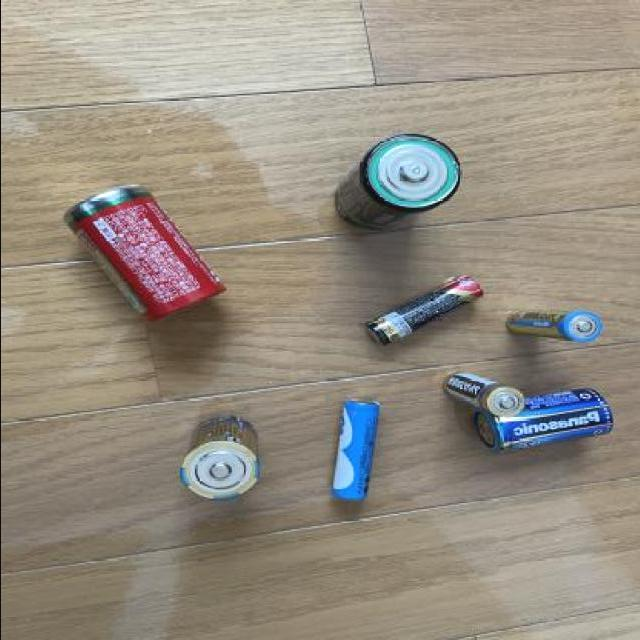AA: (358, 274, 488, 348), (177, 414, 265, 503), (328, 397, 388, 508), (498, 303, 602, 346), (442, 371, 524, 418)
